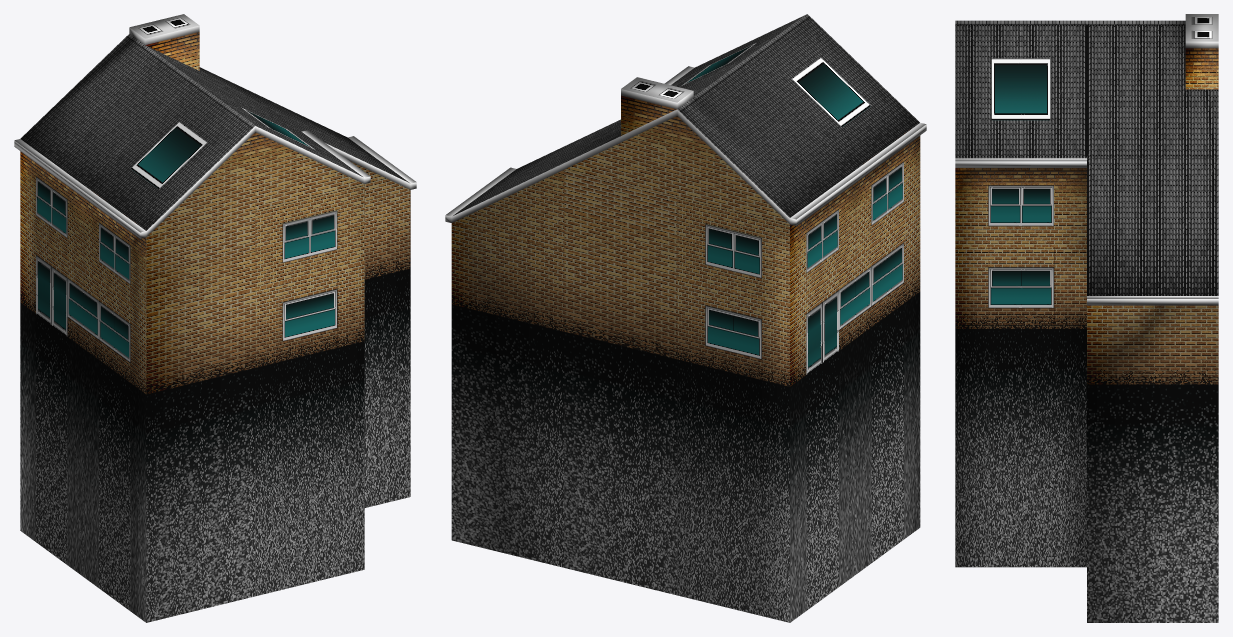
File: doorzon_mod3_1b.fbx
3 views of the same model, side by side, from view 1: azimuth 30°, elevation 25°; view 2: azimuth 150°, elevation 25°; view 3: azimuth 270°, elevation 25° (orthographic). The views are drawn at different scales.
Parts seen in each view (by area): view 1: doorzon_mod3_1b; view 2: doorzon_mod3_1b; view 3: doorzon_mod3_1b.
Boxes of the visible parts, x1=… form: doorzon_mod3_1b: x1=14, y1=14, x2=416, y2=622; doorzon_mod3_1b: x1=445, y1=14, x2=926, y2=622; doorzon_mod3_1b: x1=955, y1=14, x2=1218, y2=622.
Size of the model in its own units: 1400 by 1879 by 900.
